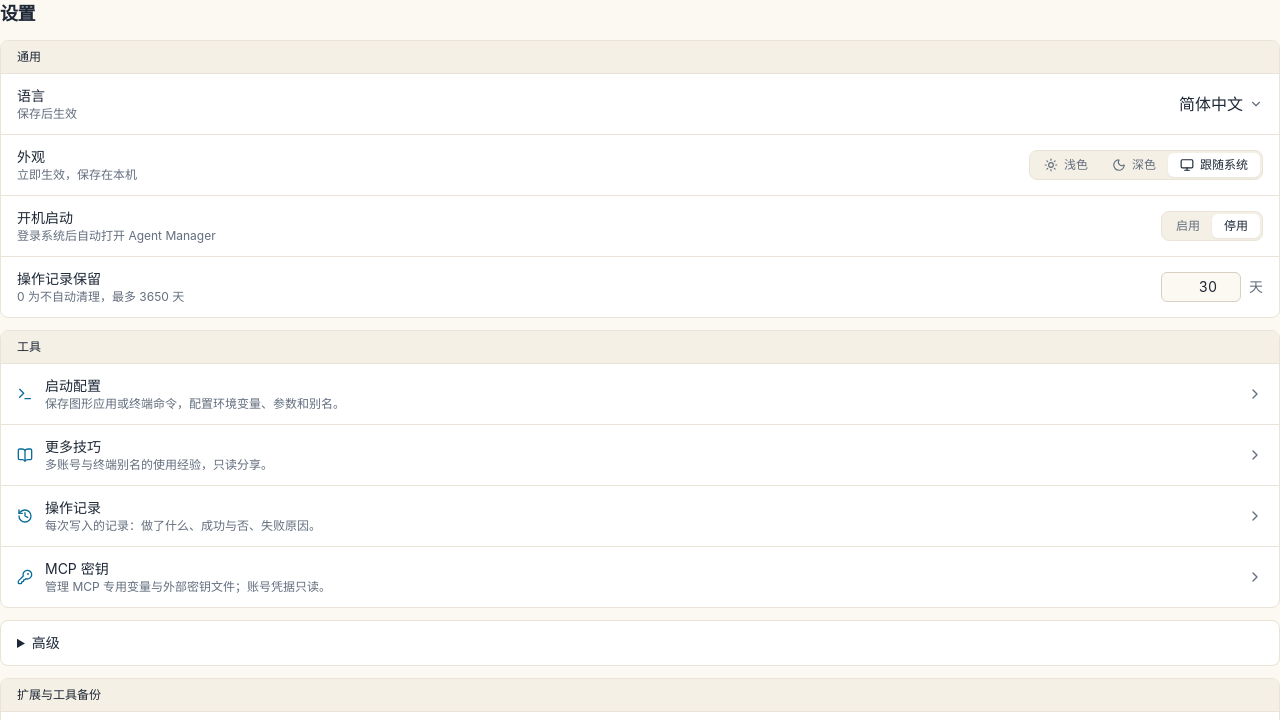
Test: SettingsPage › 保存失败显示内联错误
Replace the text in the number field named "日志保留天数" with "45" at x=1201, y=287, box [1161,272,1241,302]
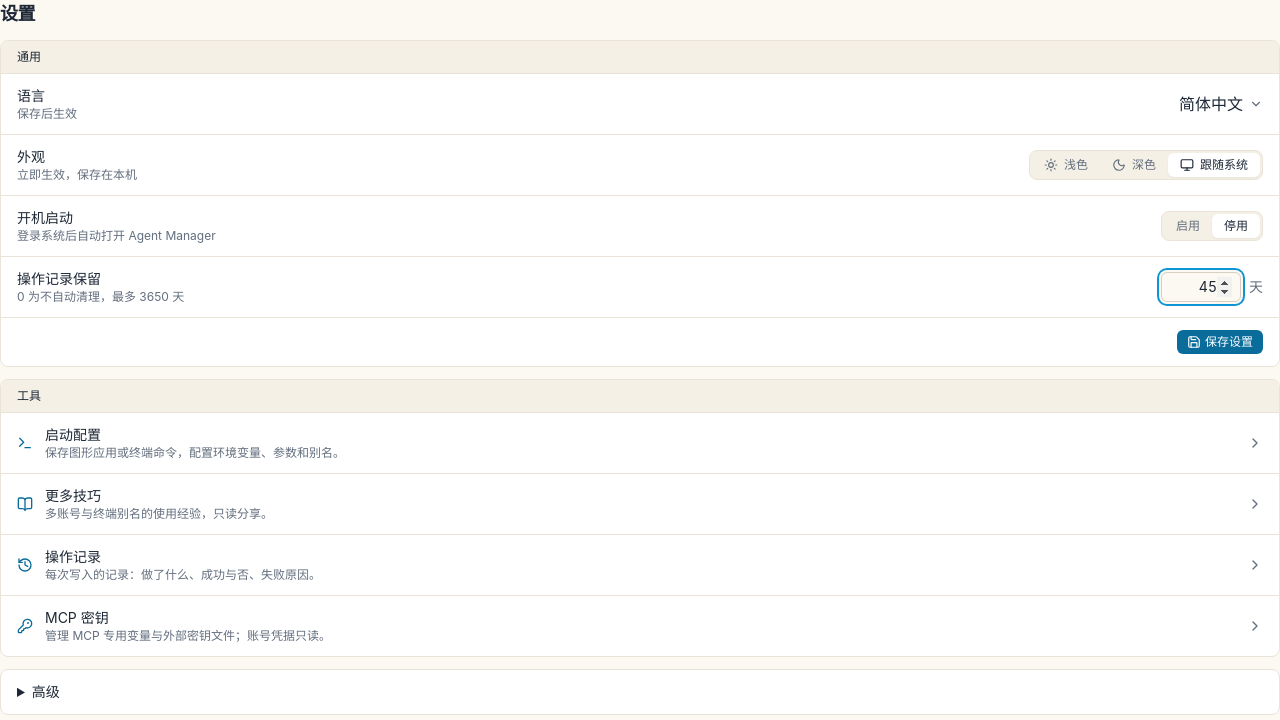
Click the button "保存设置".
click(1220, 342)  # box [1177,330,1263,354]
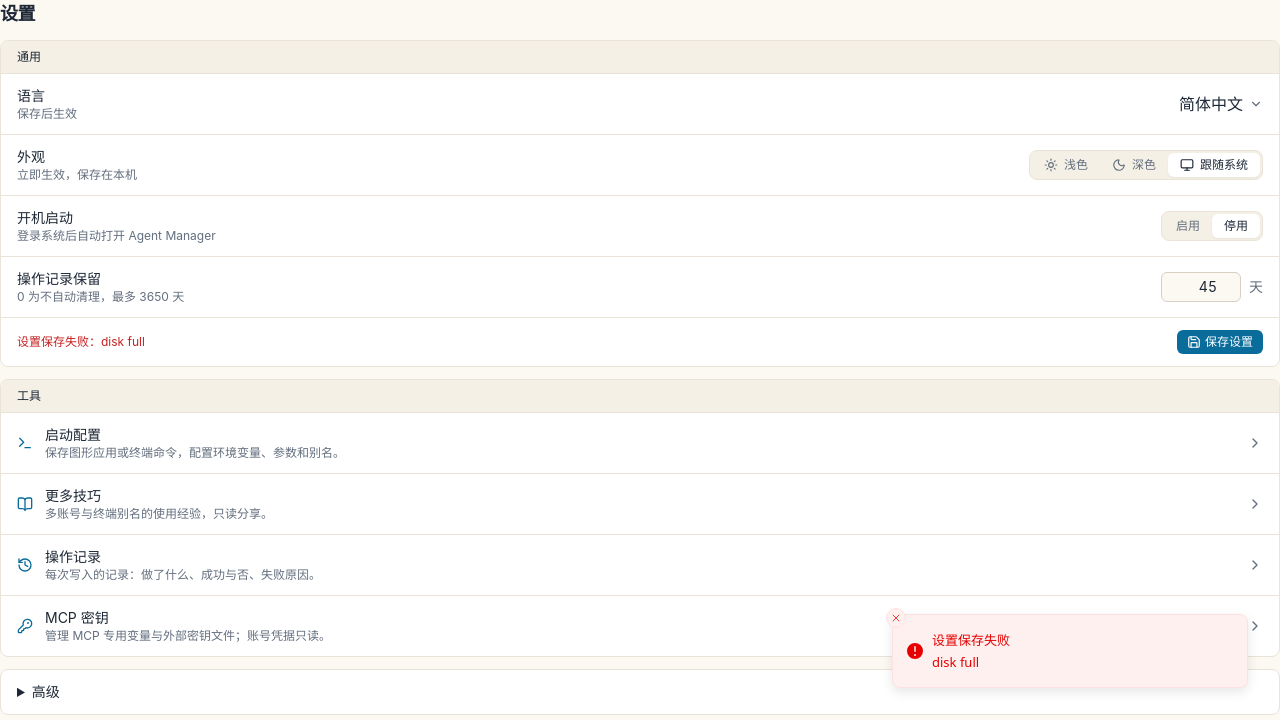
expect the message shows "disk full": met, box [17,334,145,349]
